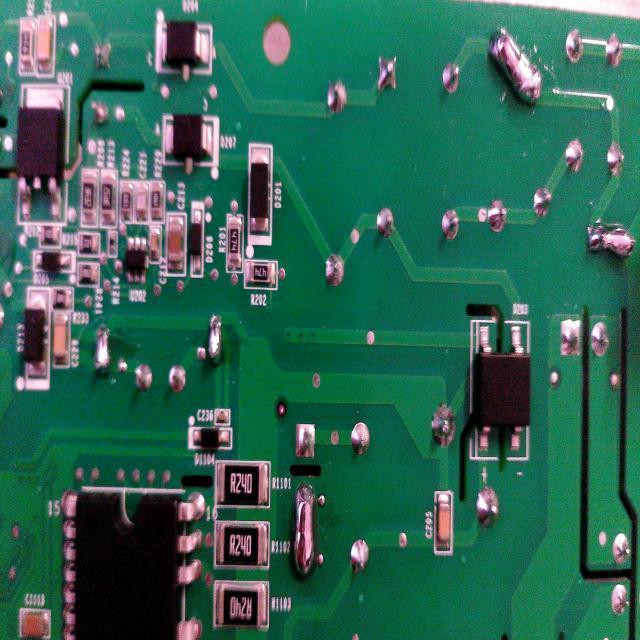Soldering shorted: (486, 18, 546, 112), (290, 473, 320, 585), (584, 217, 636, 264), (90, 318, 111, 378), (206, 307, 222, 368)
